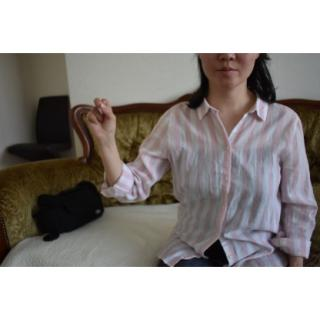QAAF: (84, 93, 120, 146)
